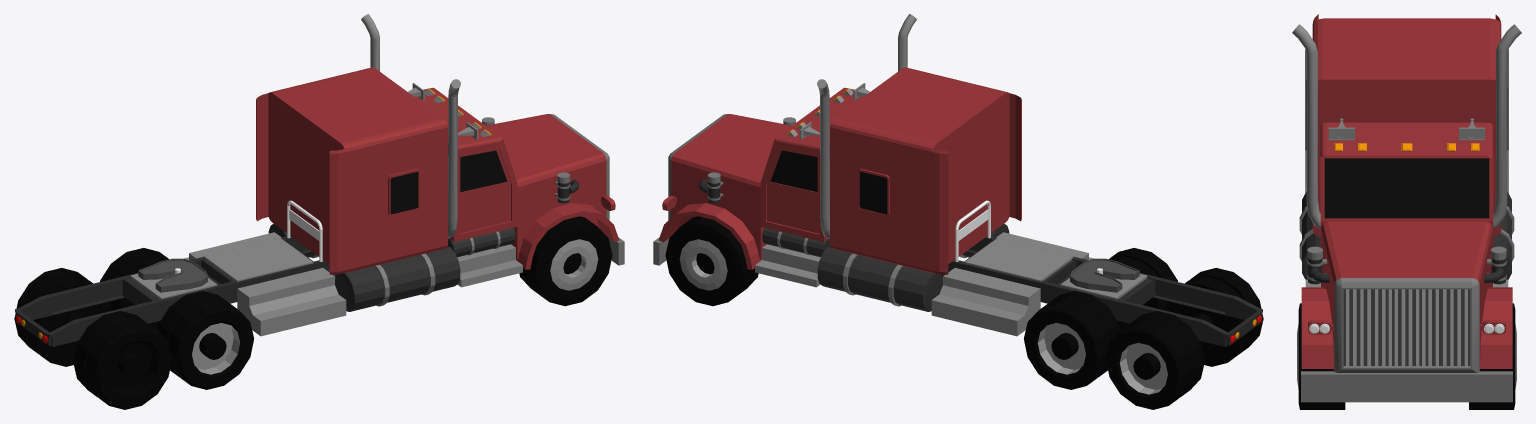
File: tracto-blender.glb
3 views of the same model, side by side, from view 1: azimuth 30°, elevation 25°; view 2: azimuth 150°, elevation 25°; view 3: azimuth 270°, elevation 25° (orthographic). The views are drawn at different scales.
Visible parts, largest first — view 1: Object_7, Object_13, Object_16, wheel_rr222, wheel_rr2, Object_12, wheel_fr, windshield, wheel_rl222, Object_10, Object_14, Object_5 (+6 smaller); view 2: Object_7, Object_13, Object_16, wheel_rl22, wheel_rl, Object_12, wheel_fl, windshield, wheel_rr22, Object_10, Object_14, Object_5 (+6 smaller); view 3: Object_7, Object_10, windshield, Object_13, Object_8, Object_9, Object_12, wheel_fr, wheel_fl, Object_16, Object_18, Object_19 (+1 smaller).
Boxes of the visible parts, box(x1,y1,x2,y2) form: Object_7: box(256, 67, 618, 274); Object_13: box(130, 14, 522, 336); Object_16: box(15, 179, 578, 346); wheel_rr222: box(85, 319, 172, 409); wheel_rr2: box(168, 299, 253, 389); Object_12: box(268, 223, 515, 311); wheel_fr: box(519, 216, 612, 306); windshield: box(390, 150, 507, 214); wheel_rl222: box(26, 276, 112, 366); Object_10: box(310, 114, 624, 306); Object_14: box(138, 258, 207, 292); Object_5: box(550, 239, 598, 290); Object_7: box(659, 67, 1021, 274); Object_13: box(755, 14, 1147, 336); Object_16: box(699, 179, 1262, 346); wheel_rl22: box(1105, 319, 1192, 409); wheel_rl: box(1024, 299, 1109, 389); Object_12: box(762, 223, 1009, 311); wheel_fl: box(665, 216, 758, 306); windshield: box(770, 150, 887, 214); wheel_rr22: box(1165, 276, 1251, 366); Object_10: box(653, 114, 967, 306); Object_14: box(1070, 258, 1139, 292); Object_5: box(679, 239, 727, 290); Object_7: box(1301, 14, 1512, 370); Object_10: box(1299, 206, 1514, 402); windshield: box(1324, 158, 1489, 218); Object_13: box(1292, 24, 1521, 287); Object_8: box(1343, 289, 1470, 365); Object_9: box(1346, 289, 1467, 367); Object_12: box(1302, 191, 1511, 279); wheel_fr: box(1298, 303, 1345, 409); wheel_fl: box(1469, 303, 1515, 409); Object_16: box(1308, 258, 1505, 284); Object_18: box(1334, 143, 1479, 151); Object_19: box(1309, 323, 1504, 333).
Bounding box in the file's own units: 7.3 × 3.21 × 2.16.
